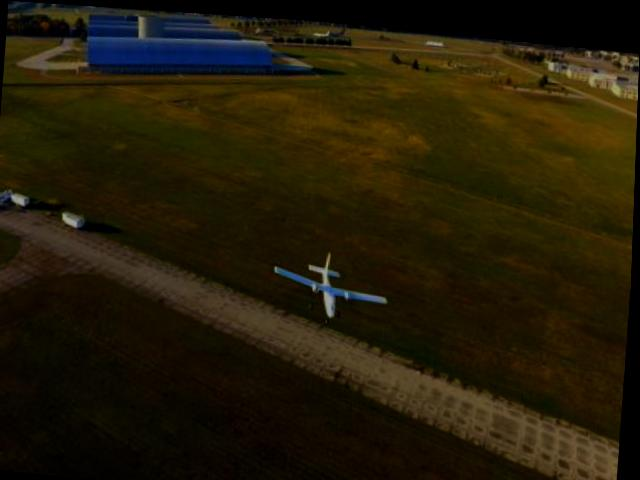uav: (273, 239, 392, 321)
